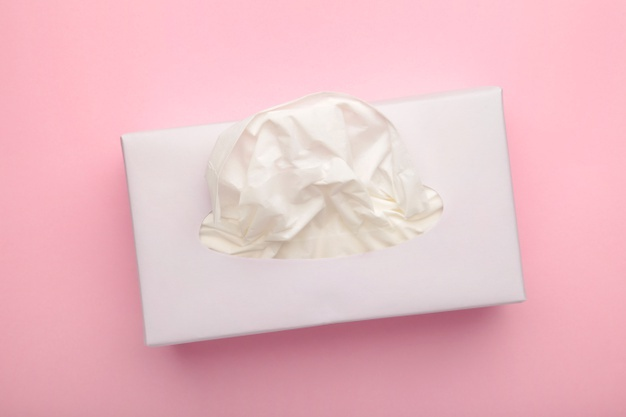Tissue: (202, 88, 444, 267)
